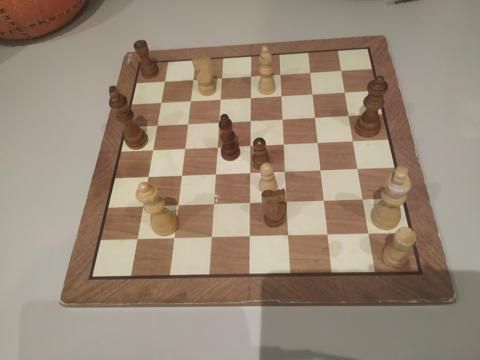xcorner: (323, 230, 334, 241), (151, 118, 162, 129), (245, 114, 256, 125), (310, 111, 321, 122), (155, 95, 166, 106), (216, 71, 227, 82), (275, 68, 286, 79), (244, 231, 254, 242), (283, 231, 294, 241), (136, 200, 147, 210), (172, 199, 182, 210), (244, 198, 255, 208), (319, 196, 330, 206), (142, 170, 152, 181), (176, 169, 186, 180), (245, 139, 255, 150), (279, 138, 289, 149), (213, 116, 224, 126), (343, 110, 354, 120), (245, 91, 256, 101), (276, 90, 287, 100), (339, 87, 350, 97), (159, 74, 169, 85), (305, 67, 316, 77), (131, 233, 141, 243), (168, 233, 178, 243), (206, 232, 216, 242), (364, 230, 374, 240), (208, 199, 218, 209), (282, 197, 292, 207), (358, 195, 368, 205), (210, 168, 220, 178), (245, 167, 255, 177), (280, 166, 290, 176), (316, 165, 326, 175), (353, 164, 363, 174), (147, 143, 157, 153), (179, 142, 189, 152), (212, 141, 222, 151), (313, 137, 323, 147), (348, 136, 358, 146), (182, 117, 192, 127), (278, 113, 288, 123), (185, 94, 195, 104), (215, 93, 225, 103), (308, 88, 318, 98), (188, 73, 198, 83), (246, 70, 256, 80), (336, 65, 346, 75)
